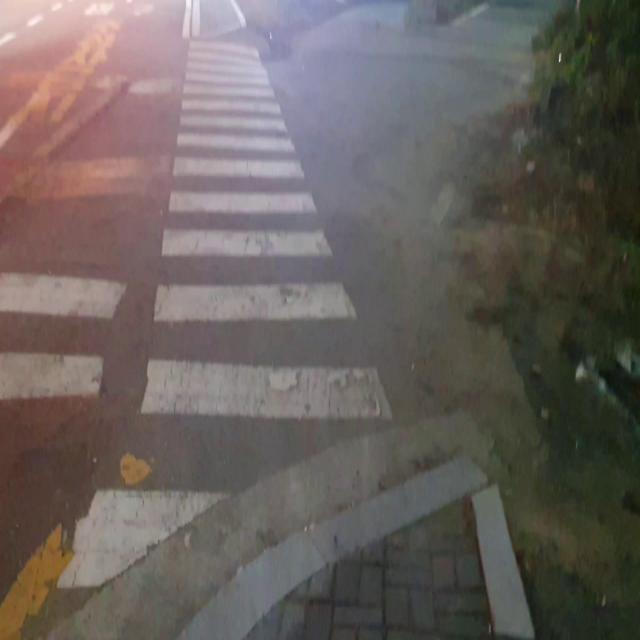crosswalk: (138, 37, 399, 422)
